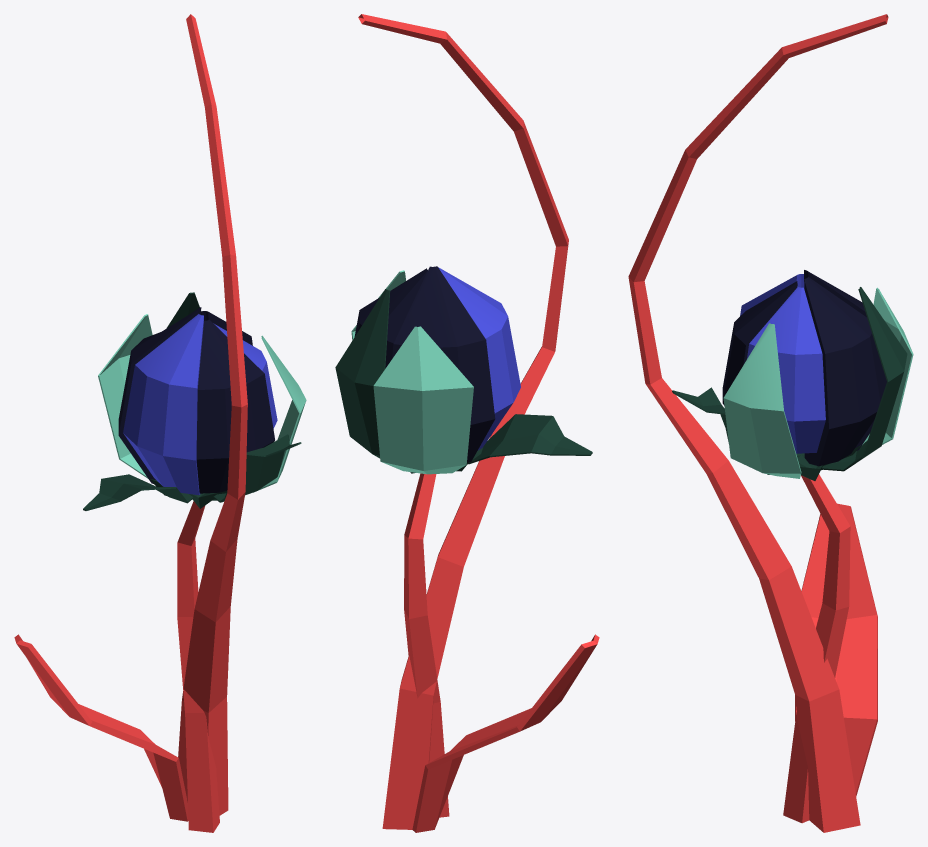
File: st1_flower4.fbx
3 views of the same model, side by side, from view 1: azimuth 30°, elevation 25°; view 2: azimuth 150°, elevation 25°; view 3: azimuth 270°, elevation 25° (orthographic). The views are drawn at different scales.
Parts seen in each view (by area): view 1: Circle_001; view 2: Circle_001; view 3: Circle_001.
Boxes of the visible parts, <box> form: Circle_001: <box>14,14,306,832</box>; Circle_001: <box>335,14,599,832</box>; Circle_001: <box>628,14,913,832</box>.
Size of the model in its own units: 174 by 500 by 159.
